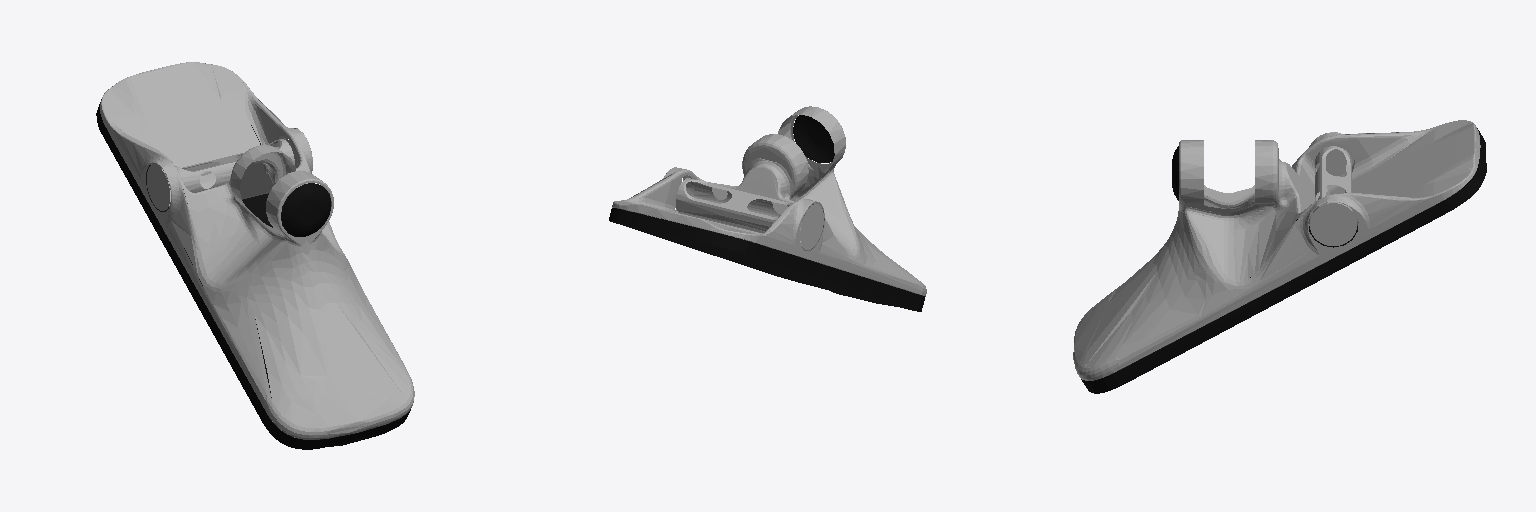
File: toe-roll.obj
3 views of the same model, side by side, from view 1: azimuth 30°, elevation 25°; view 2: azimuth 150°, elevation 25°; view 3: azimuth 270°, elevation 25° (orthographic).
Parts seen in each view (by area): view 1: __TMPOBJ_____TMPMESH__.042; view 2: __TMPOBJ_____TMPMESH__.042; view 3: __TMPOBJ_____TMPMESH__.042.
Part boxes in pixels (left/top/right/bottom): __TMPOBJ_____TMPMESH__.042: left=96, top=62, right=414, bottom=449; __TMPOBJ_____TMPMESH__.042: left=609, top=106, right=926, bottom=311; __TMPOBJ_____TMPMESH__.042: left=1073, top=120, right=1486, bottom=393.
Bounding box in the file's own units: 0.084 × 0.1314 × 0.2124.